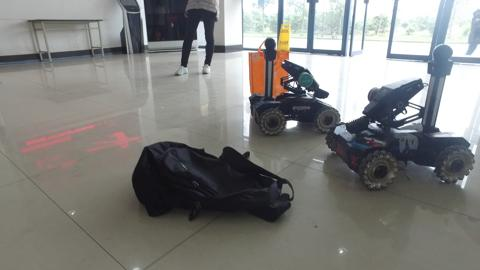bag: (130, 137, 300, 223)
chariot: (329, 44, 477, 185), (252, 36, 338, 133)
